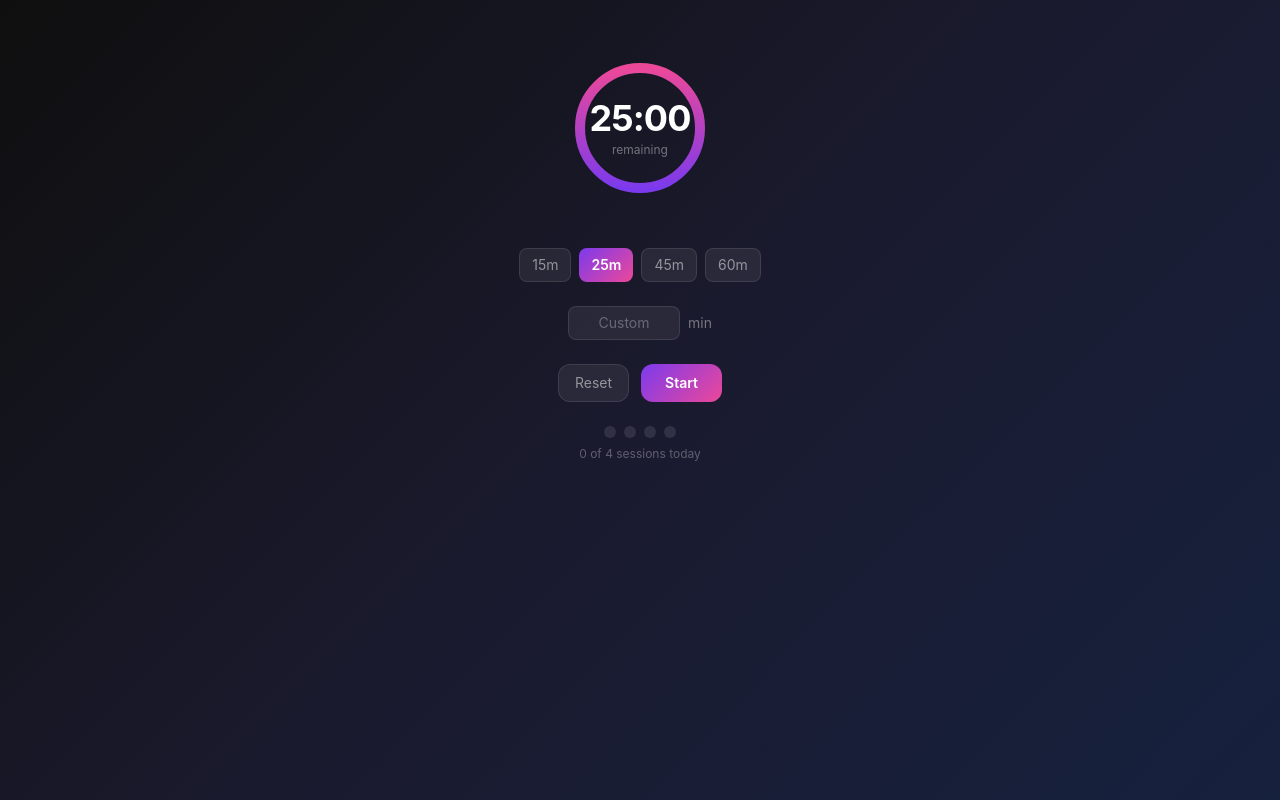
Test: FocusTimer › shows Pause after Start is clicked
Click the button "Start": point(682, 383) [641,364,722,402]
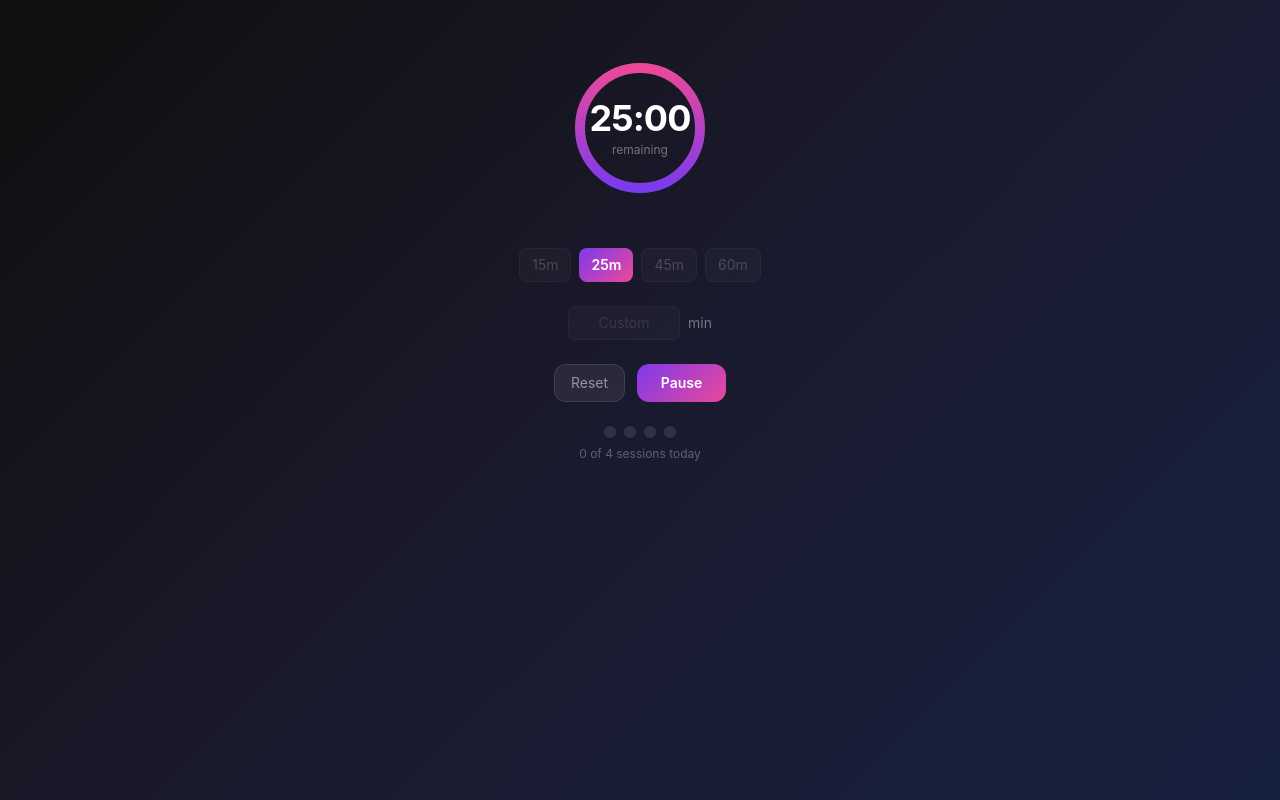
Check: the button "Pause" is shown, box [637,364,726,402]
